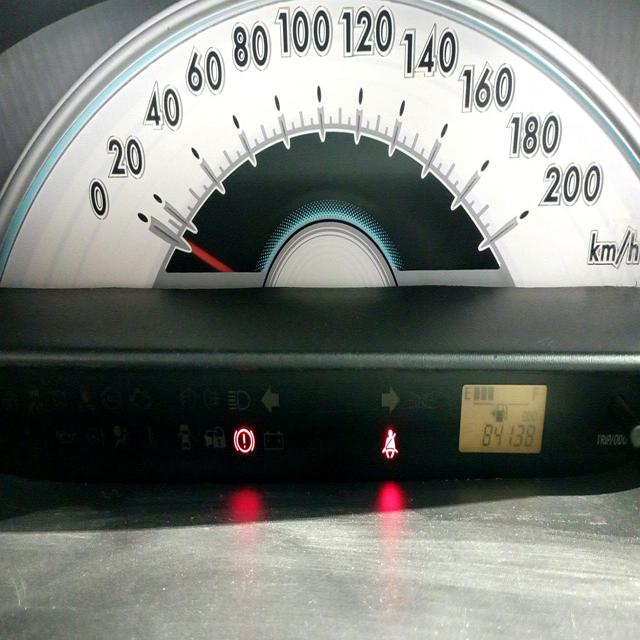odometer: (477, 417, 537, 450)
